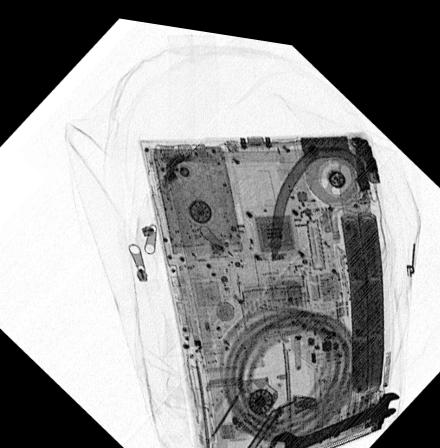Wrench: (266, 375, 402, 448)
